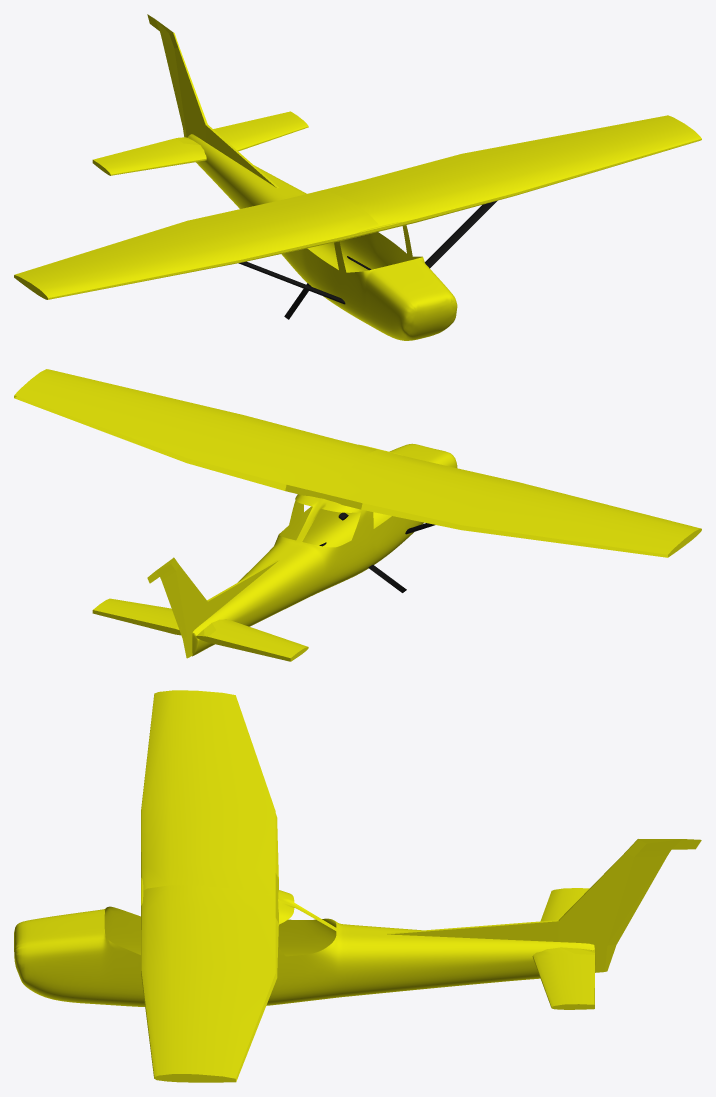
Rendered from cessna 150 NEWt.glb.
3 renders of one model, top to bottom at view 1: azimuth 30°, elevation 25°; view 2: azimuth 150°, elevation 25°; view 3: azimuth 270°, elevation 25°, orthographic. The views are drawn at different scales.
Visible parts, largest first — view 1: Body; view 2: Body; view 3: Body.
Boxes of the visible parts, x1,y1,x2,y2 form: Body: (14, 14, 701, 340); Body: (14, 369, 701, 661); Body: (14, 690, 701, 1082).
Size of the model in its own units: 9.96 by 2.12 by 7.55.
